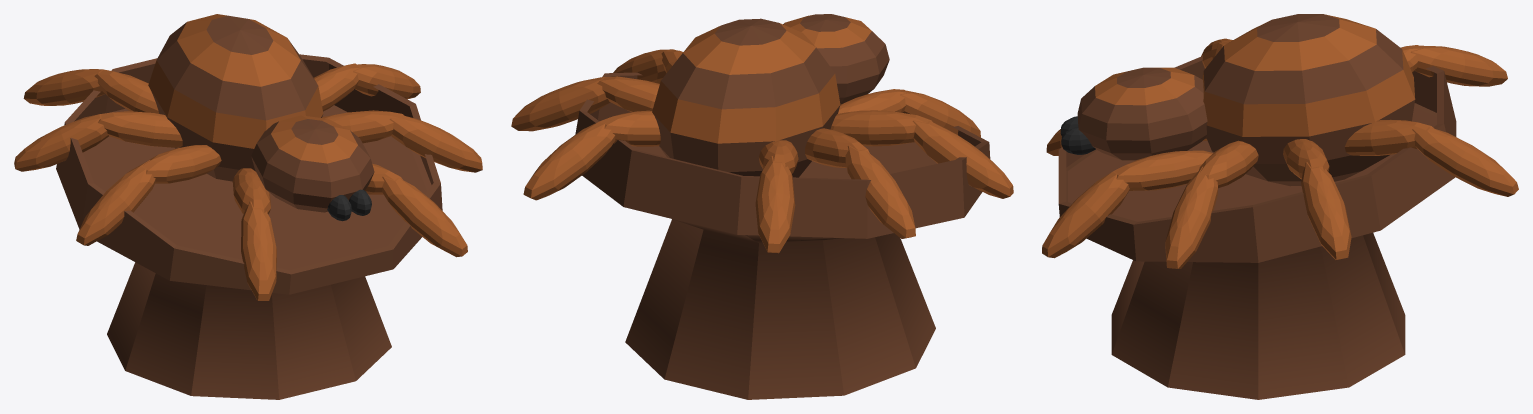
File: Nature_SpiderTower.fbx
The picture shows the model from 3 angles, left to right: view 1: azimuth 30°, elevation 25°; view 2: azimuth 150°, elevation 25°; view 3: azimuth 270°, elevation 25°; orthographic projection. The views are drawn at different scales.
Parts seen in each view (by area): view 1: pSphere89; view 2: pSphere89; view 3: pSphere89.
Boxes of the visible parts, x1,y1,x2,y2 form: pSphere89: [14, 14, 482, 399]; pSphere89: [511, 14, 1013, 399]; pSphere89: [1042, 14, 1518, 399].
Bounding box in the file's own units: 250 × 176 × 240.
